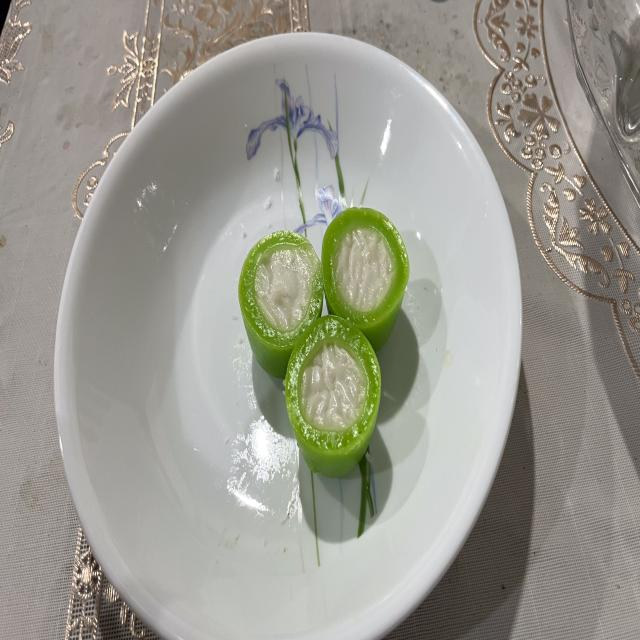nona-manis: (285, 316, 381, 478), (321, 207, 410, 351), (239, 231, 324, 378)
